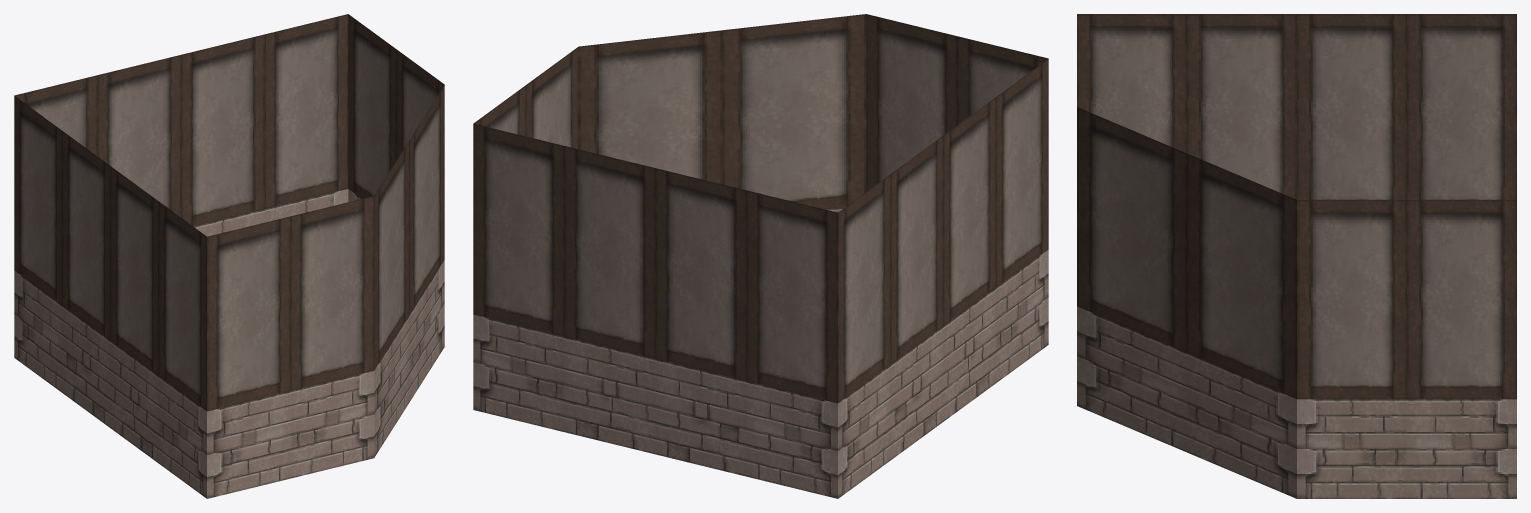
The model's file is plaster_wall_stone_base_cornered.glb.
3 renders of one model, left to right at view 1: azimuth 30°, elevation 25°; view 2: azimuth 150°, elevation 25°; view 3: azimuth 270°, elevation 25°, orthographic. The views are drawn at different scales.
Parts seen in each view (by area): view 1: plaster_wall_stone_base_cornered; view 2: plaster_wall_stone_base_cornered; view 3: plaster_wall_stone_base_cornered.
Boxes of the visible parts, x1,y1,x2,y2 form: plaster_wall_stone_base_cornered: [14, 14, 444, 498]; plaster_wall_stone_base_cornered: [473, 14, 1048, 498]; plaster_wall_stone_base_cornered: [1077, 14, 1516, 498].
Size of the model in its own units: 4 by 3 by 4.
1 material, 1 textured.
